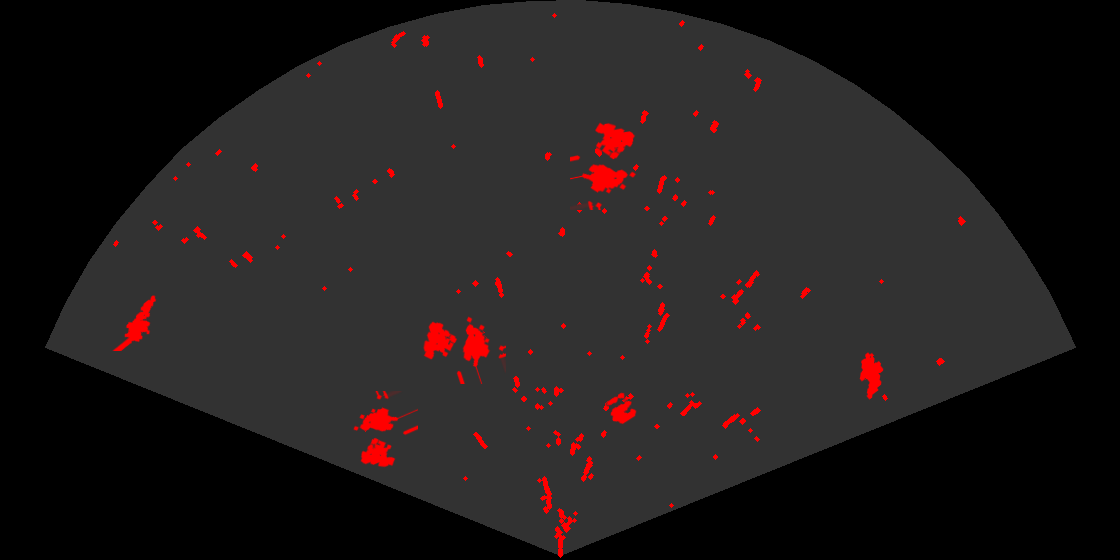AUV: (858, 351, 885, 401)
ball: (605, 391, 638, 426)
cage: (570, 121, 638, 210), (422, 315, 506, 384), (352, 391, 418, 469)
frogman: (111, 294, 158, 351)
